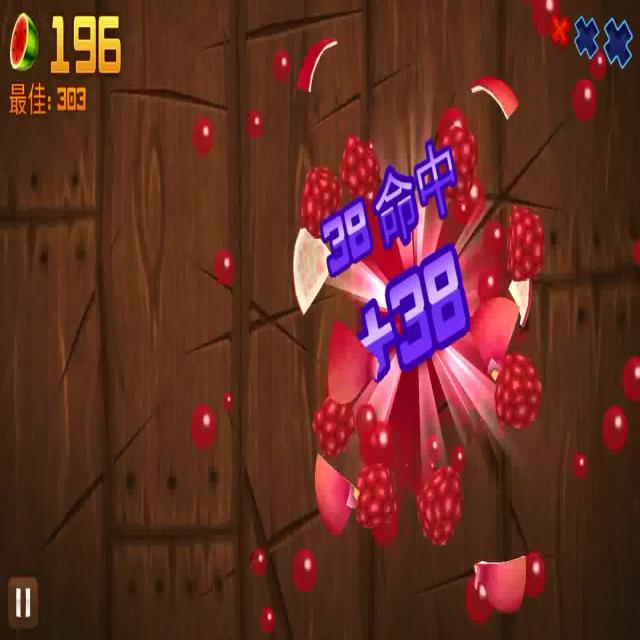fruit: (496, 348, 540, 429)
